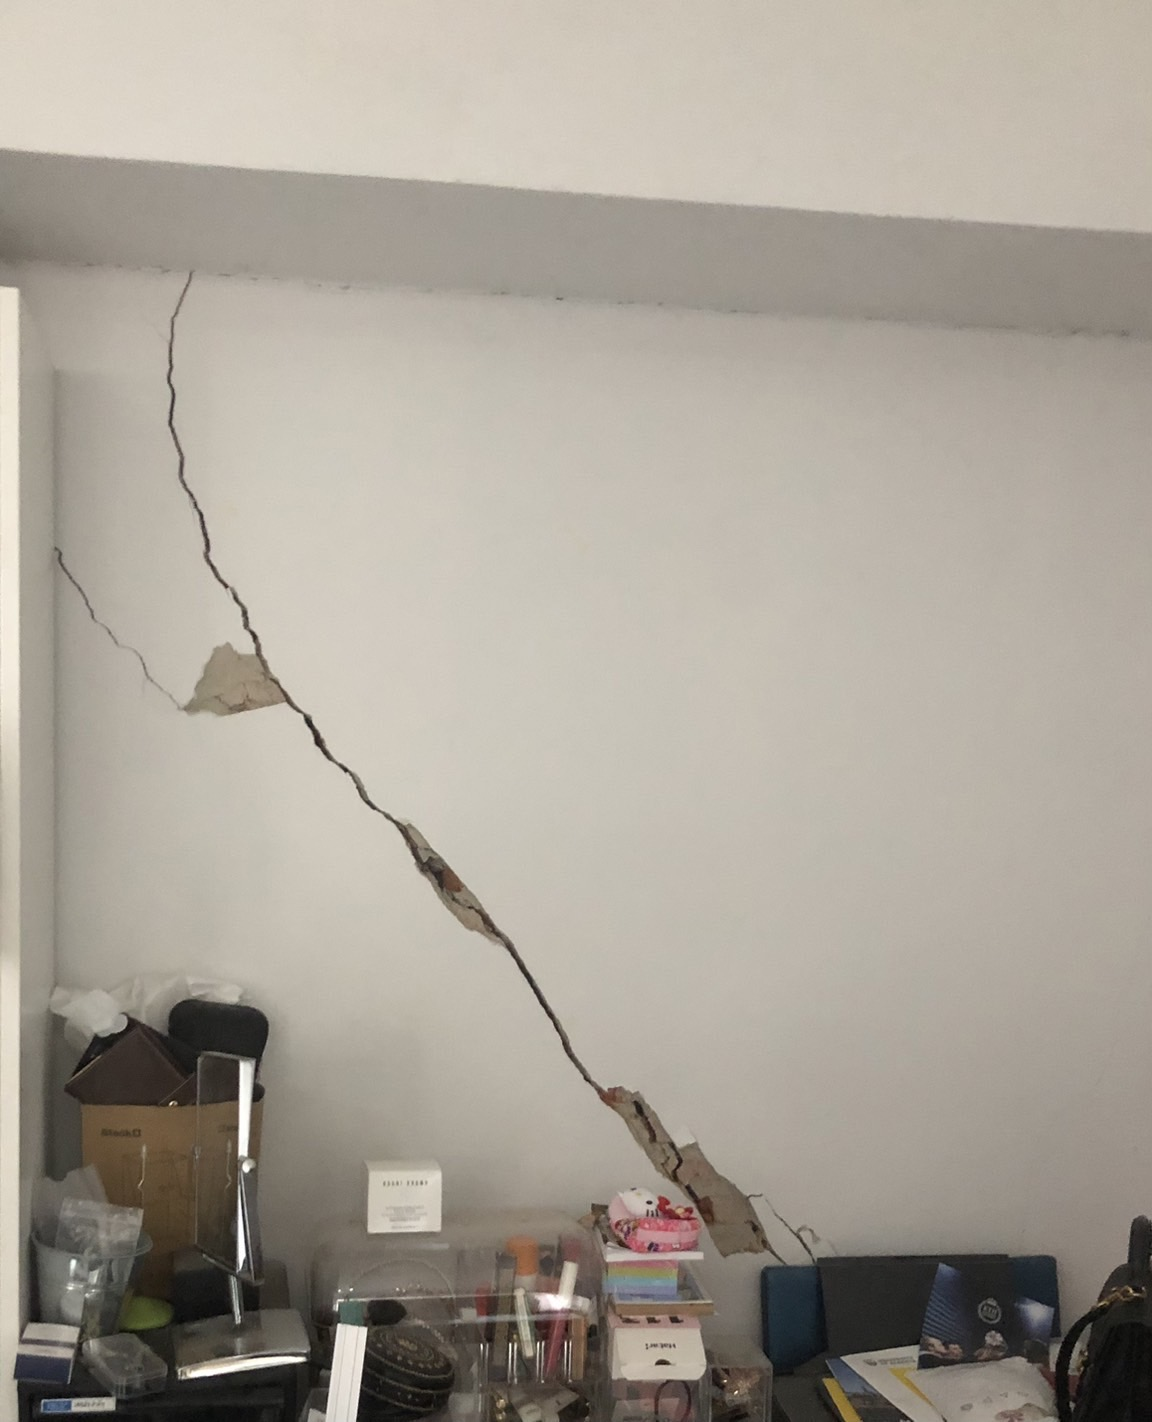High: (38, 255, 832, 1281)
